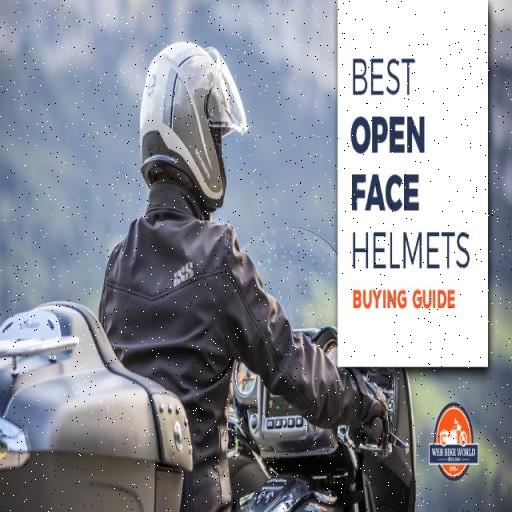Helmet: (145, 40, 243, 204)
